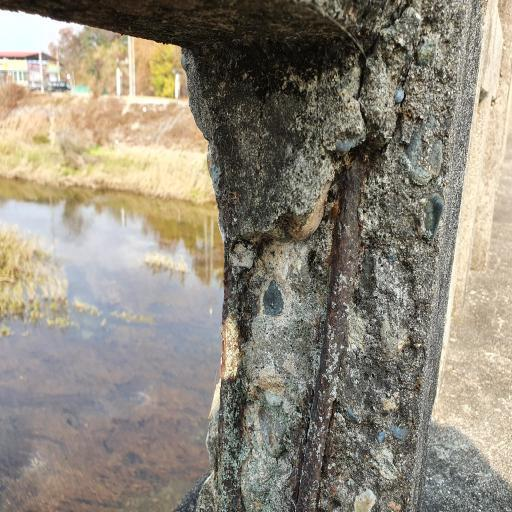exposed_rebar: (296, 155, 368, 510)
